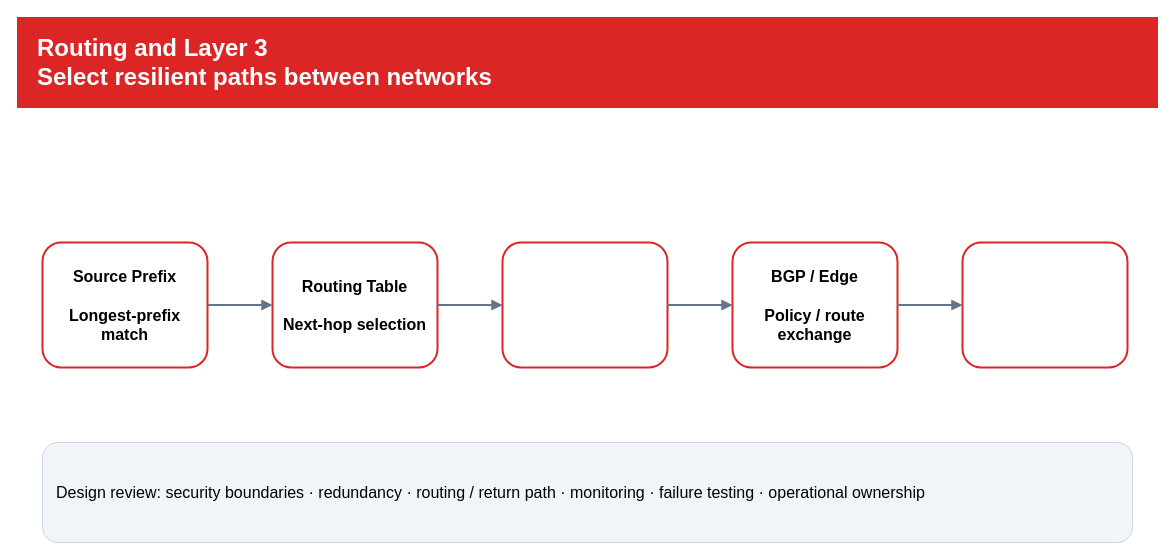
The diagram is 1175 pixels wide and 560 high, and some of its shapes have lost their labels. Each missing label, with the centre of its shape:
"Destination Prefix Forwarding decision" belongs at pixel 1044 304.
"OSPF / IS-IS IGP convergence" belongs at pixel 584 304.
